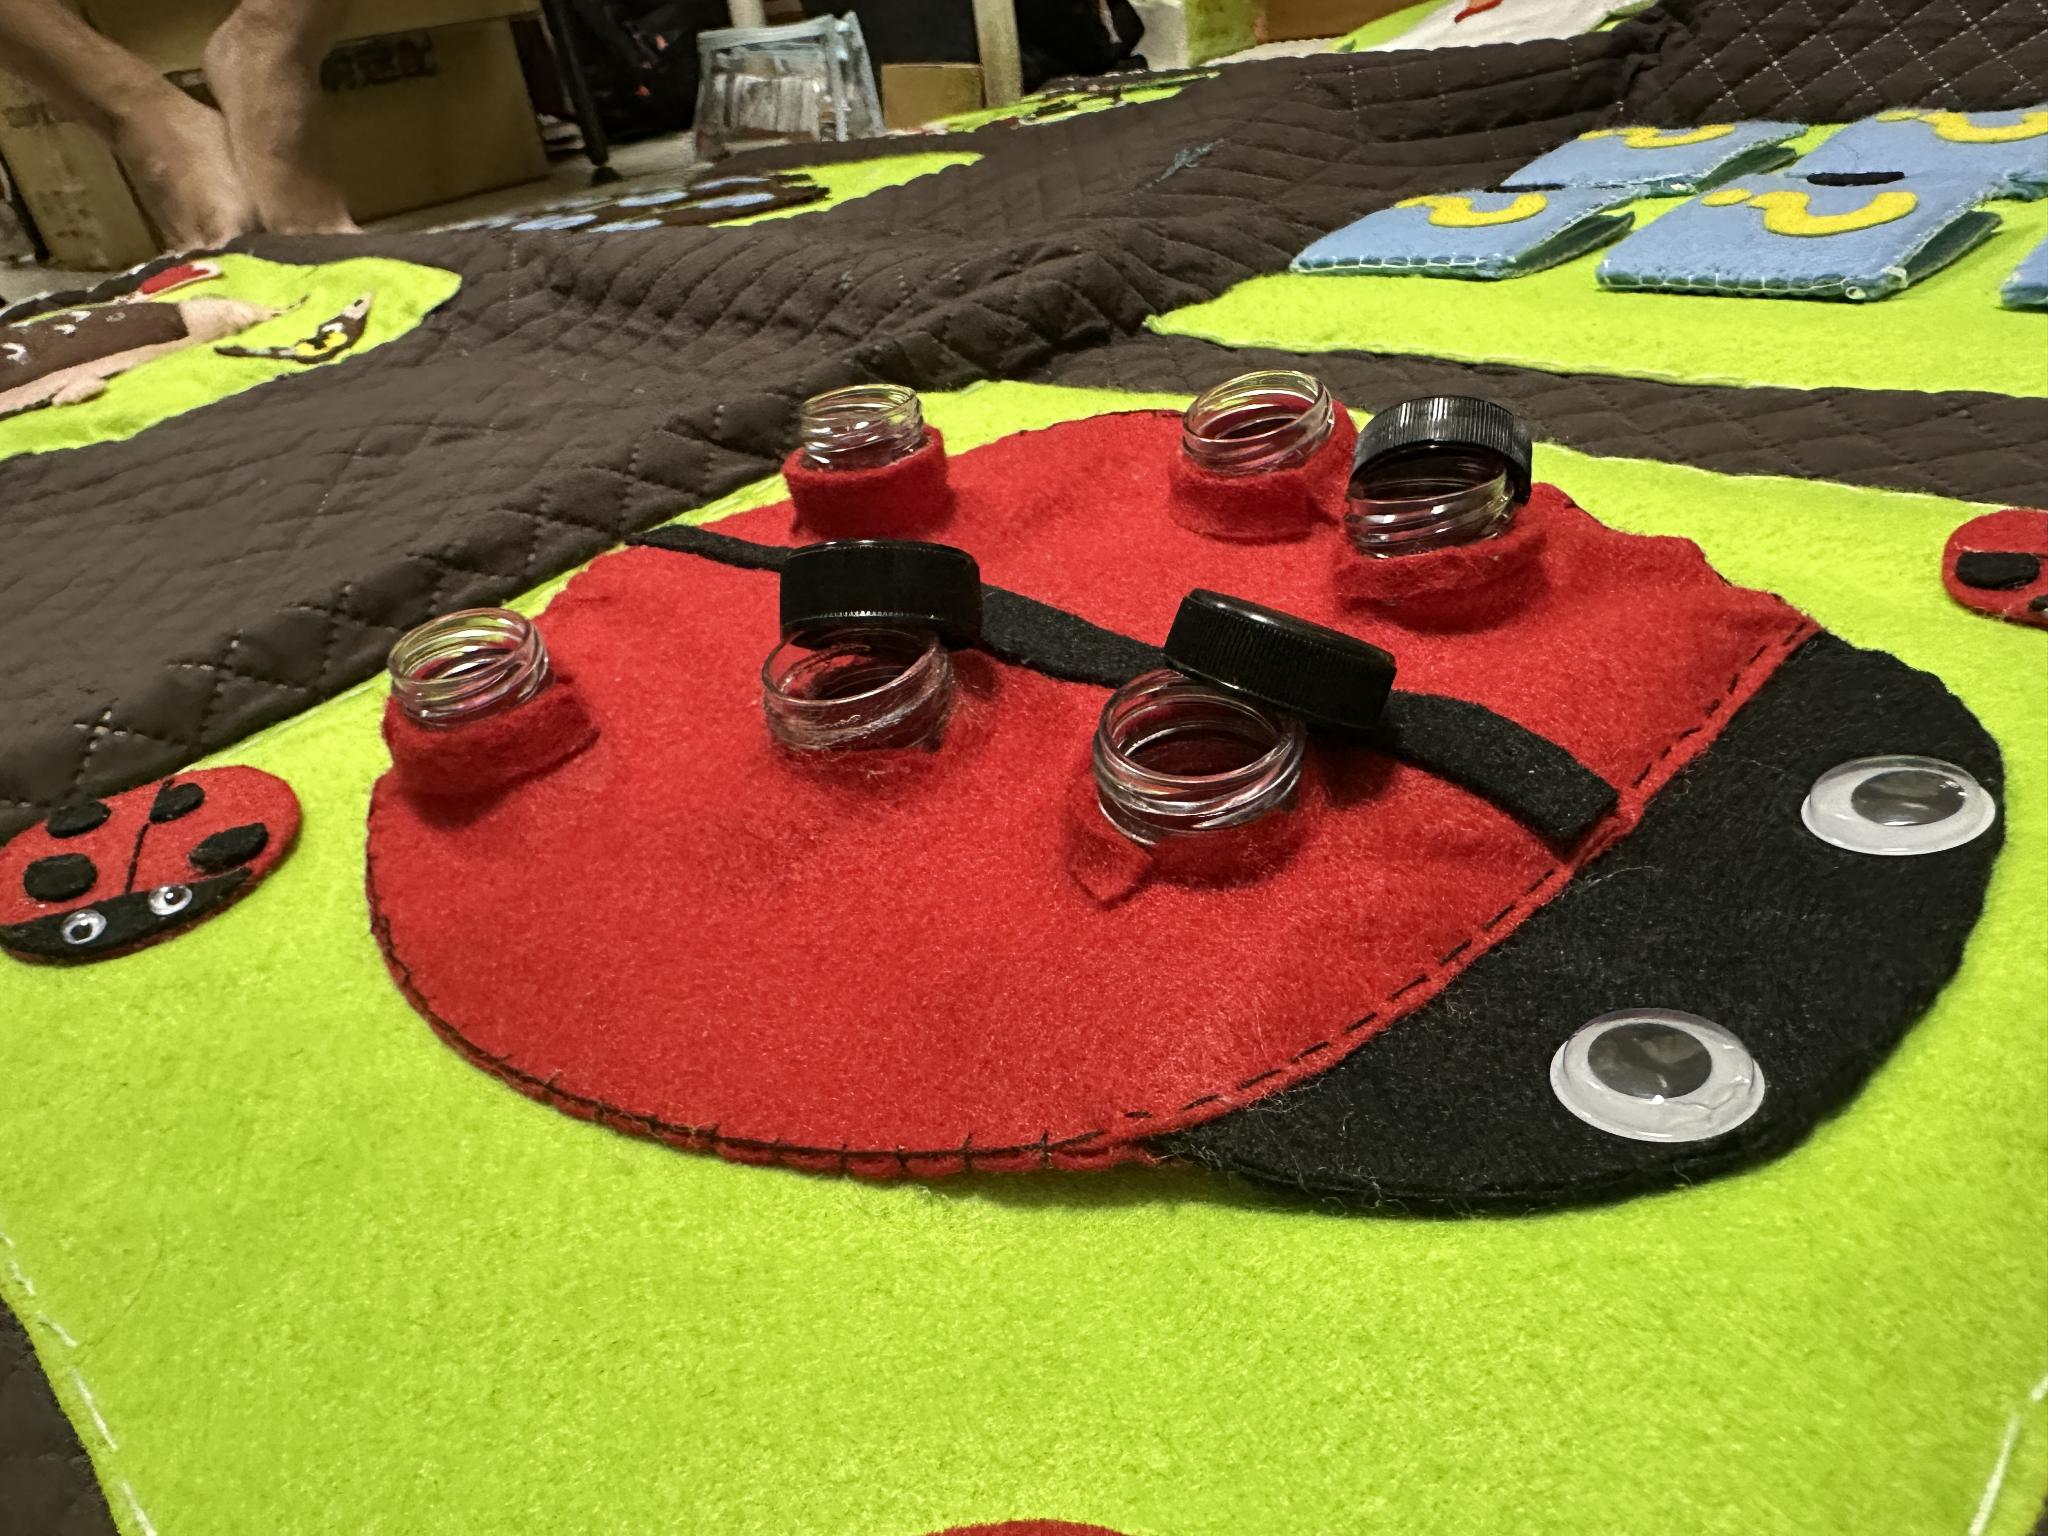cap_ng: (1063, 578, 1408, 874), (734, 529, 1009, 797), (1340, 373, 1567, 600)
